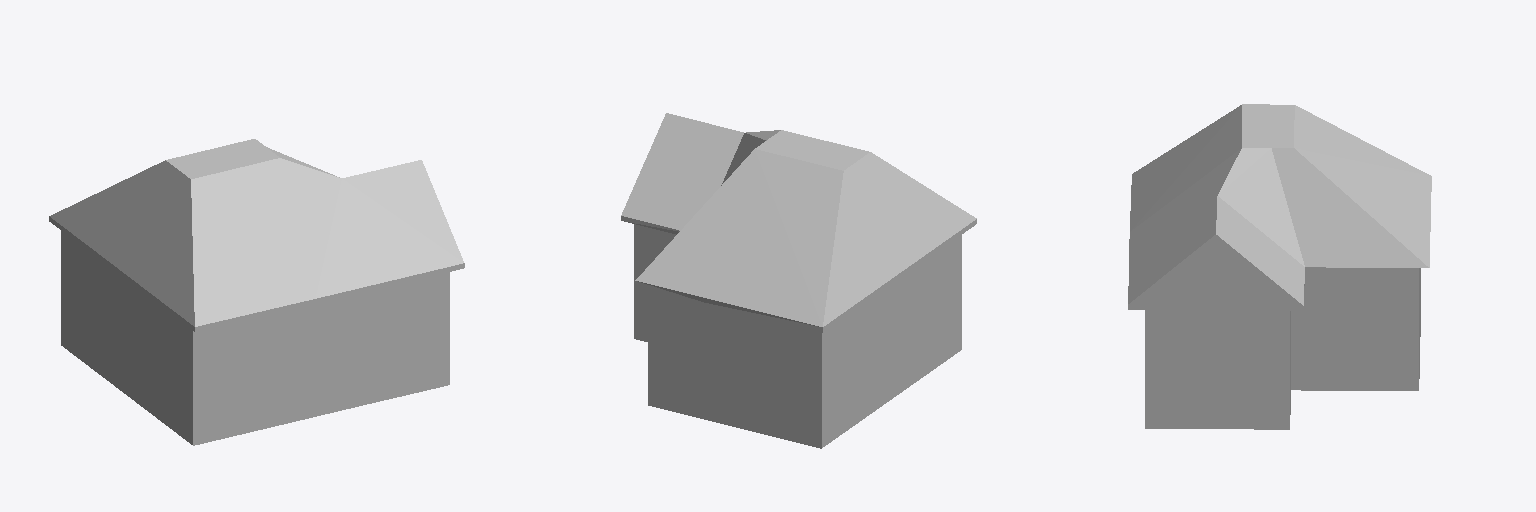
The model's file is house.obj.
The picture shows the model from 3 angles: view 1: azimuth 30°, elevation 25°; view 2: azimuth 150°, elevation 25°; view 3: azimuth 270°, elevation 25°; orthographic projection.
Parts seen in each view (by area): view 1: Cube; view 2: Cube; view 3: Cube.
Part boxes in pixels (left/top/right/bottom): Cube: left=49, top=139, right=464, bottom=445; Cube: left=621, top=113, right=976, bottom=448; Cube: left=1128, top=104, right=1431, bottom=429.
Size of the model in its own units: 4.91 by 3.85 by 4.78.